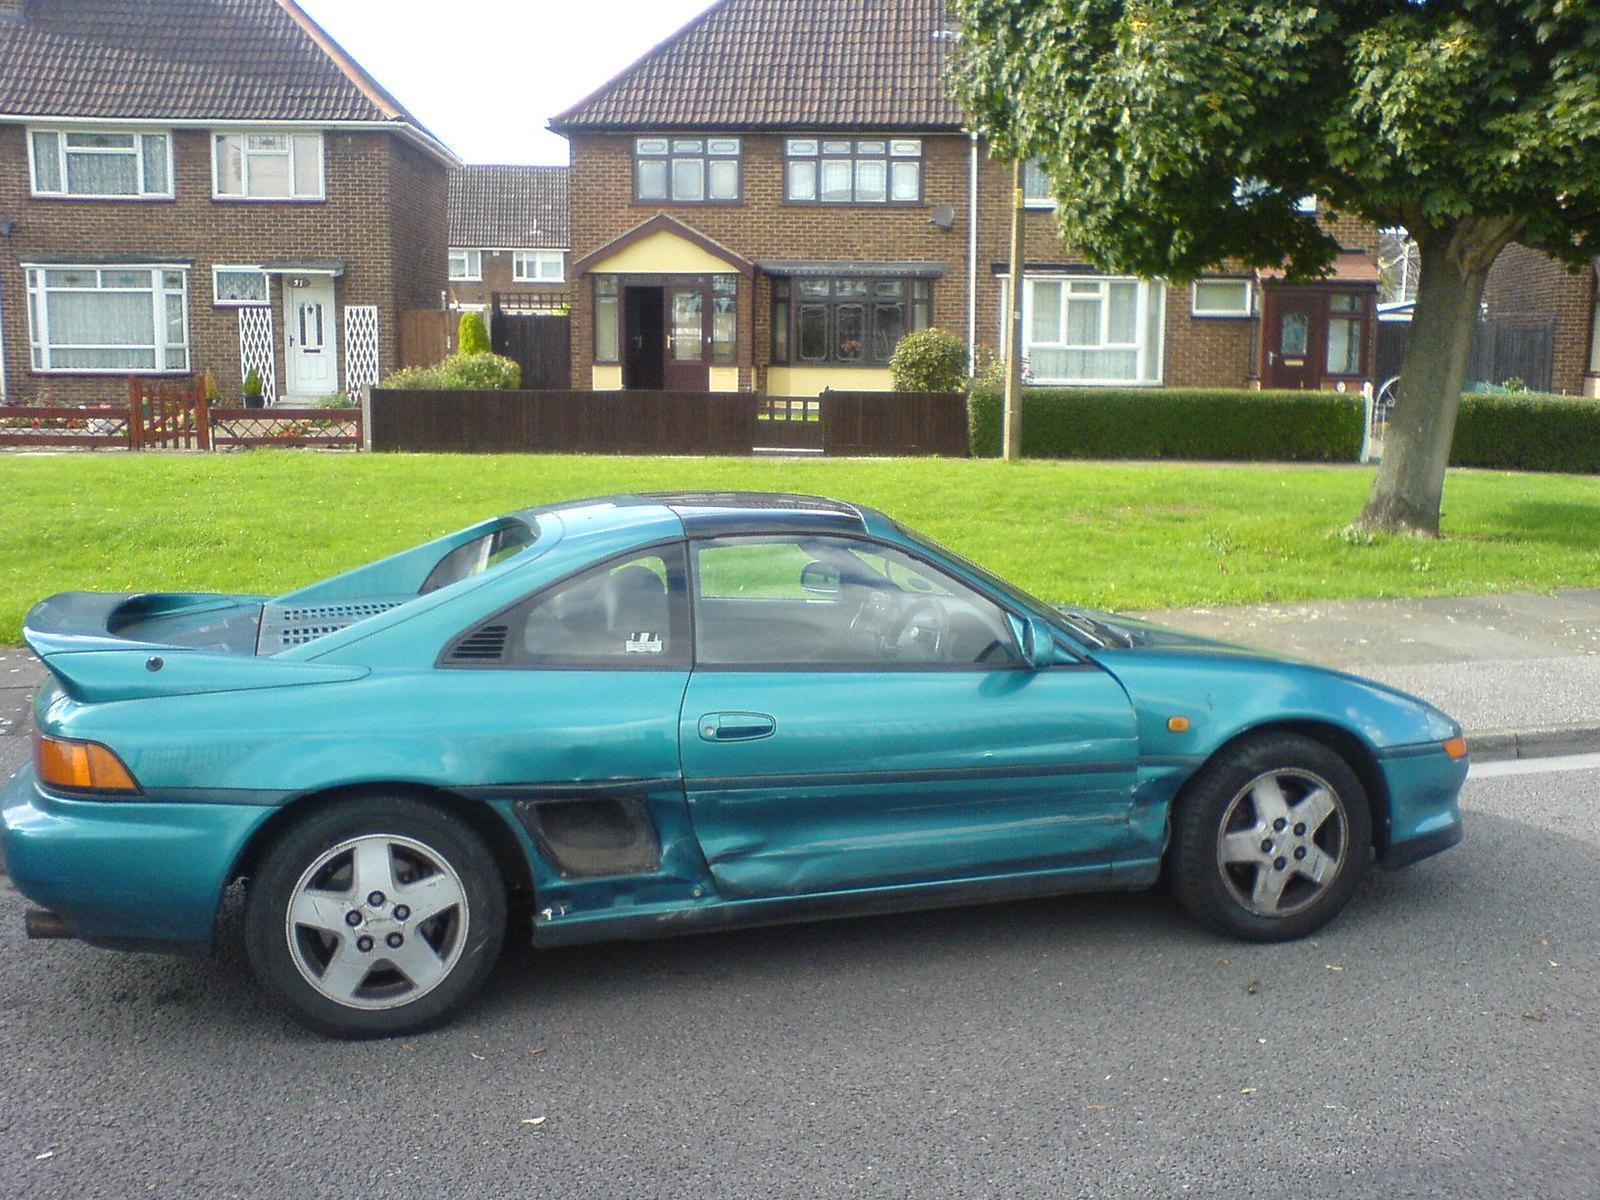RunningBoard-Dent: (515, 874, 1110, 932)
doorouter-dent: (706, 671, 1140, 886)
quaterpanel-dent: (421, 689, 680, 892)
